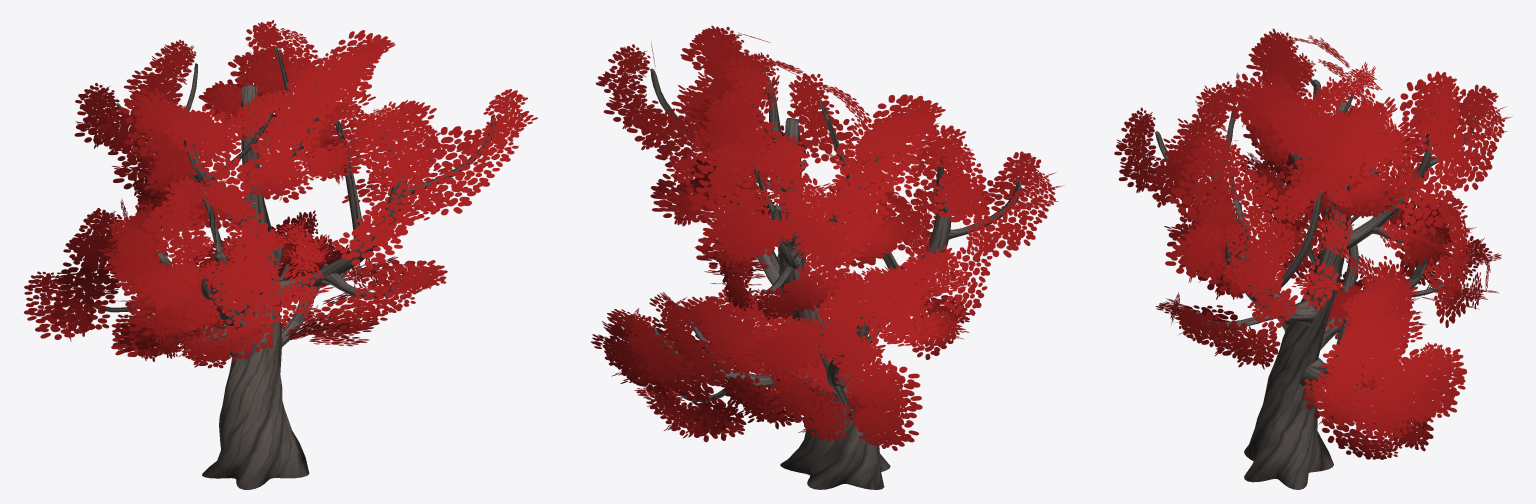
File: Twisted Tree.glb
The picture shows the model from 3 angles, left to right: view 1: azimuth 30°, elevation 25°; view 2: azimuth 150°, elevation 25°; view 3: azimuth 270°, elevation 25°; orthographic projection. The views are drawn at different scales.
Parts seen in each view (by area): view 1: TwistedTree_3; view 2: TwistedTree_3; view 3: TwistedTree_3.
Part boxes in pixels (left/top/right/bottom): TwistedTree_3: left=24, top=20, right=537, bottom=489; TwistedTree_3: left=591, top=25, right=1063, bottom=489; TwistedTree_3: left=1114, top=28, right=1512, bottom=489.
Size of the model in its own units: 22.68 by 20.48 by 18.04.
Materials: 2 (2 with a texture image).
